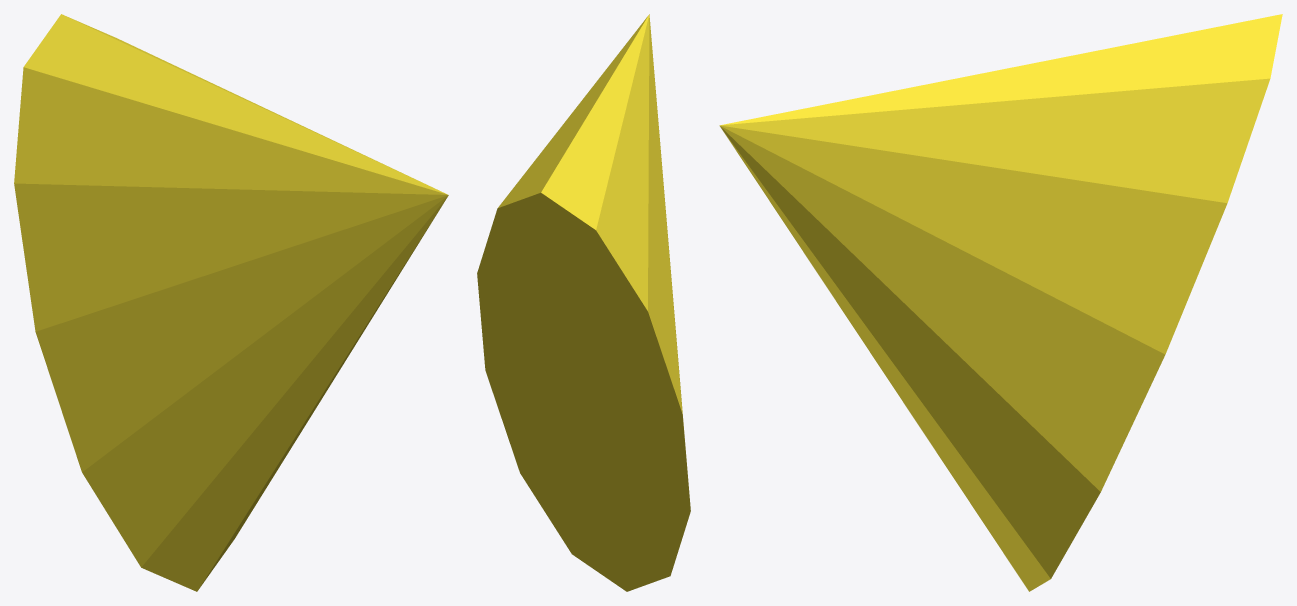
File: n5_n5_group1947761025_lev5.001.glb
3 views of the same model, side by side, from view 1: azimuth 30°, elevation 25°; view 2: azimuth 150°, elevation 25°; view 3: azimuth 270°, elevation 25° (orthographic). The views are drawn at different scales.
Parts seen in each view (by area): view 1: n5_n5_group1947761025_lev5.001; view 2: n5_n5_group1947761025_lev5.001; view 3: n5_n5_group1947761025_lev5.001.
Boxes of the visible parts, x1=… form: n5_n5_group1947761025_lev5.001: x1=14, y1=14, x2=448, y2=591; n5_n5_group1947761025_lev5.001: x1=477, y1=14, x2=690, y2=591; n5_n5_group1947761025_lev5.001: x1=719, y1=14, x2=1282, y2=591.
Bounding box in the file's own units: 0.4187 × 0.8961 × 0.8098.
